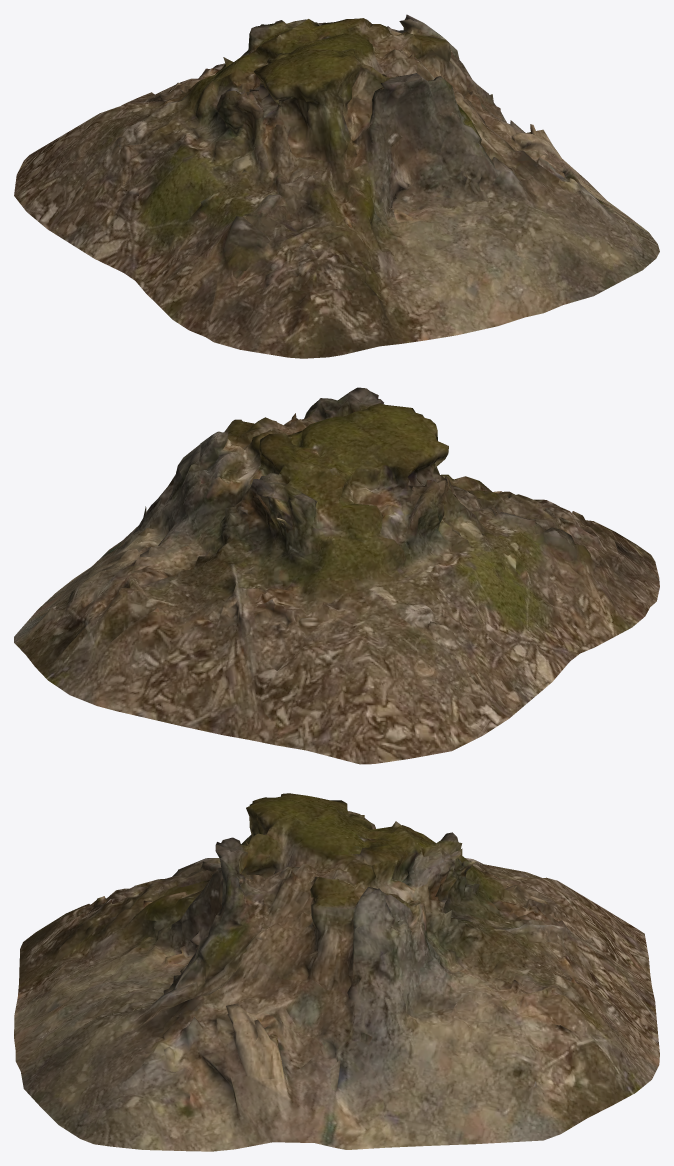
The model's file is tree_stump_01.glb.
The picture shows the model from 3 angles, top to bottom: view 1: azimuth 30°, elevation 25°; view 2: azimuth 150°, elevation 25°; view 3: azimuth 270°, elevation 25°; orthographic projection. The views are drawn at different scales.
Parts seen in each view (by area): view 1: tree_stump_01; view 2: tree_stump_01; view 3: tree_stump_01.
Boxes of the visible parts, <box> form: tree_stump_01: <box>14,14,659,358</box>; tree_stump_01: <box>14,387,659,764</box>; tree_stump_01: <box>14,793,659,1151</box>.
Bounding box in the file's own units: 1.43 × 0.571 × 1.59.
1 material, 1 textured.
